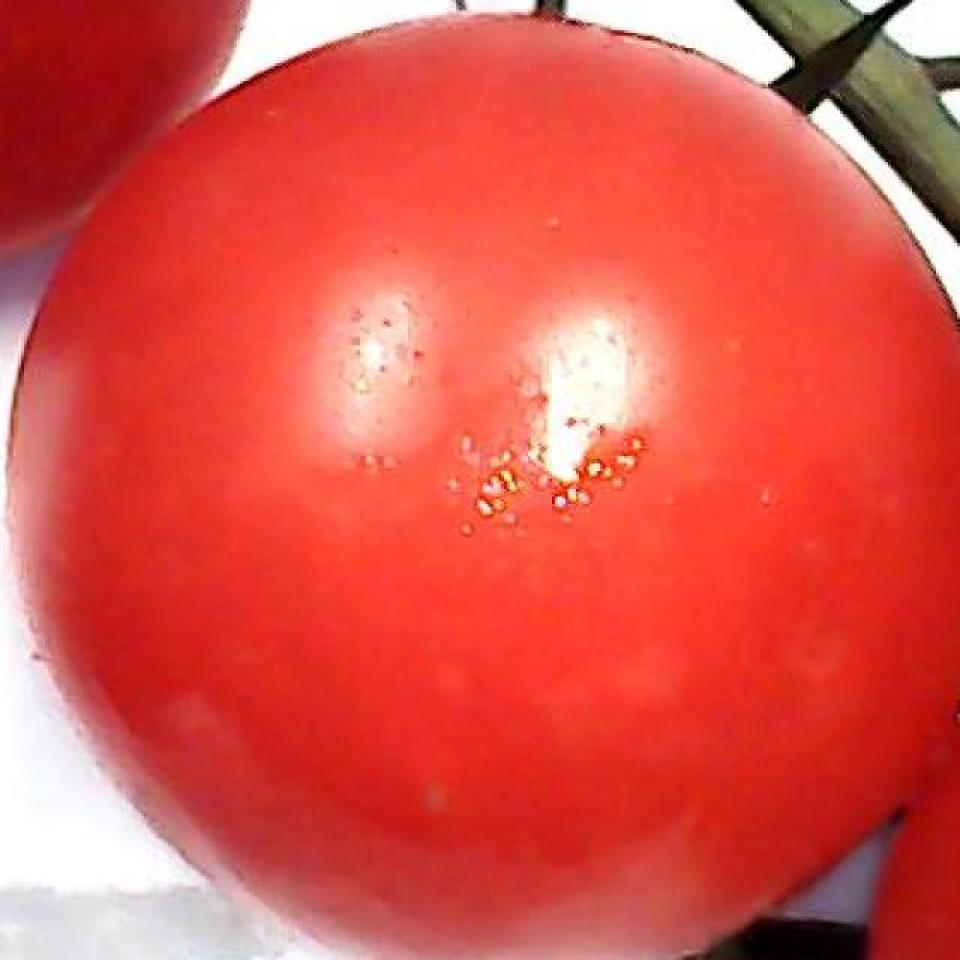Healthy: (4, 62, 904, 960)
